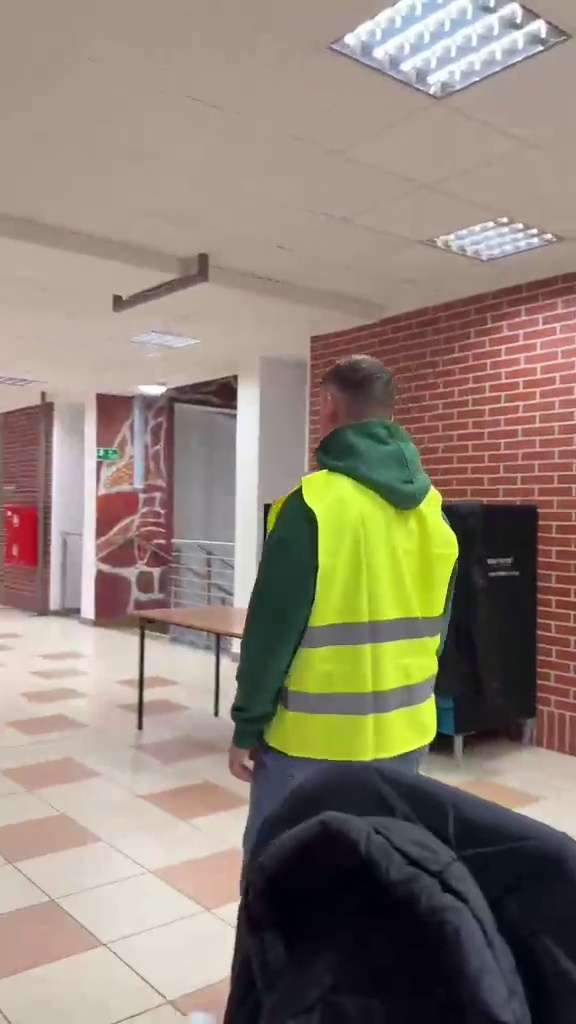vest: (239, 353, 459, 788)
